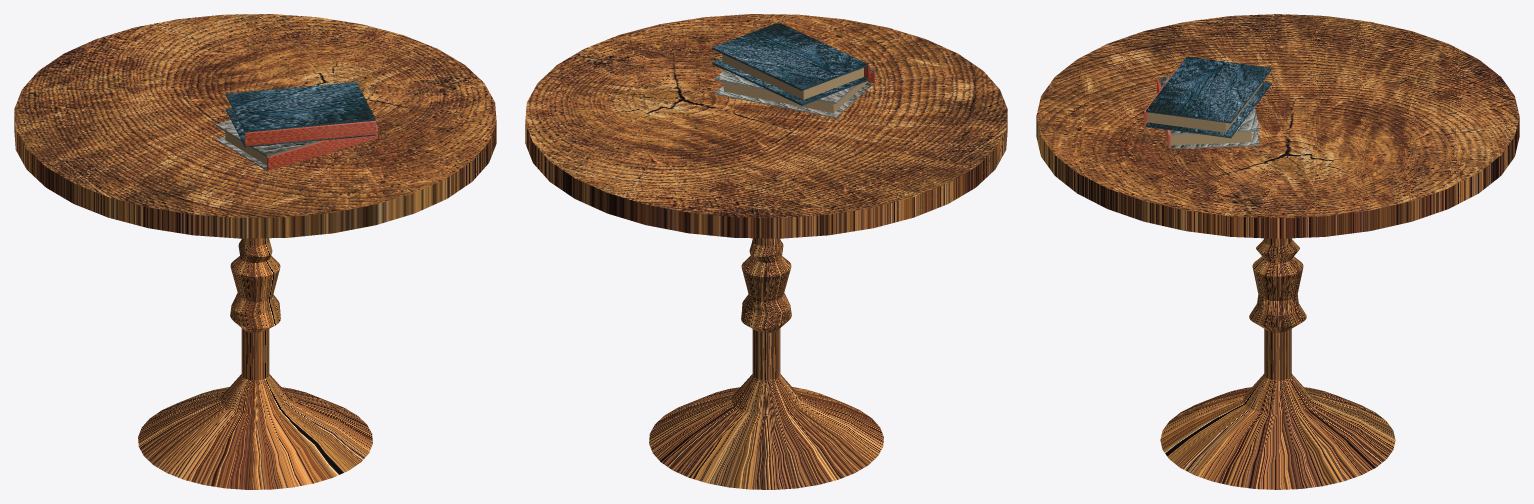
3 views of the same model, side by side, from view 1: azimuth 30°, elevation 25°; view 2: azimuth 150°, elevation 25°; view 3: azimuth 270°, elevation 25° (orthographic).
Parts seen in each view (by area): view 1: Table_0, Book-1_1, Book-2_3; view 2: Table_0, Book-1_1, Book-2_3; view 3: Table_0, Book-1_1, Book-2_3.
Boxes of the visible parts, bbox=[...] form: Table_0: bbox=[14, 14, 496, 489]; Book-1_1: bbox=[226, 81, 375, 147]; Book-2_3: bbox=[216, 120, 377, 170]; Table_0: bbox=[525, 14, 1007, 489]; Book-1_1: bbox=[712, 22, 869, 105]; Book-2_3: bbox=[714, 67, 874, 118]; Table_0: bbox=[1036, 14, 1519, 489]; Book-1_1: bbox=[1144, 56, 1271, 138]; Book-2_3: bbox=[1157, 76, 1259, 148].
Size of the model in its own units: 1.1 by 0.8973 by 1.1.
Materials: 5 (5 with a texture image).
